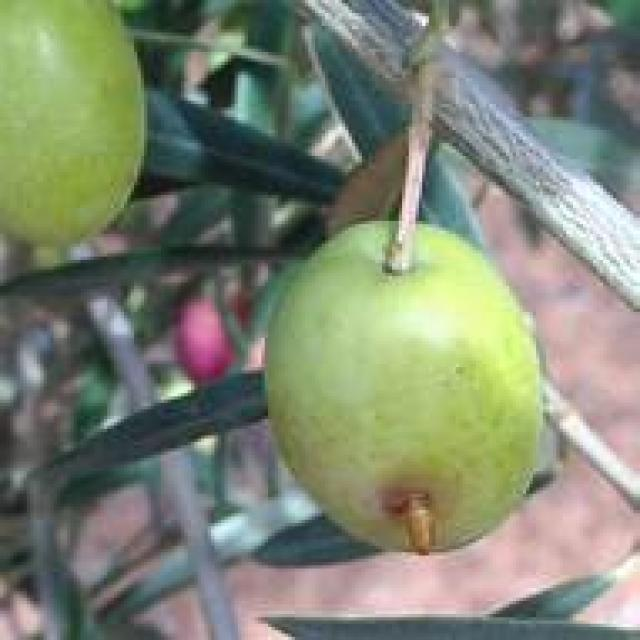Anthracnose: (268, 224, 540, 549)
